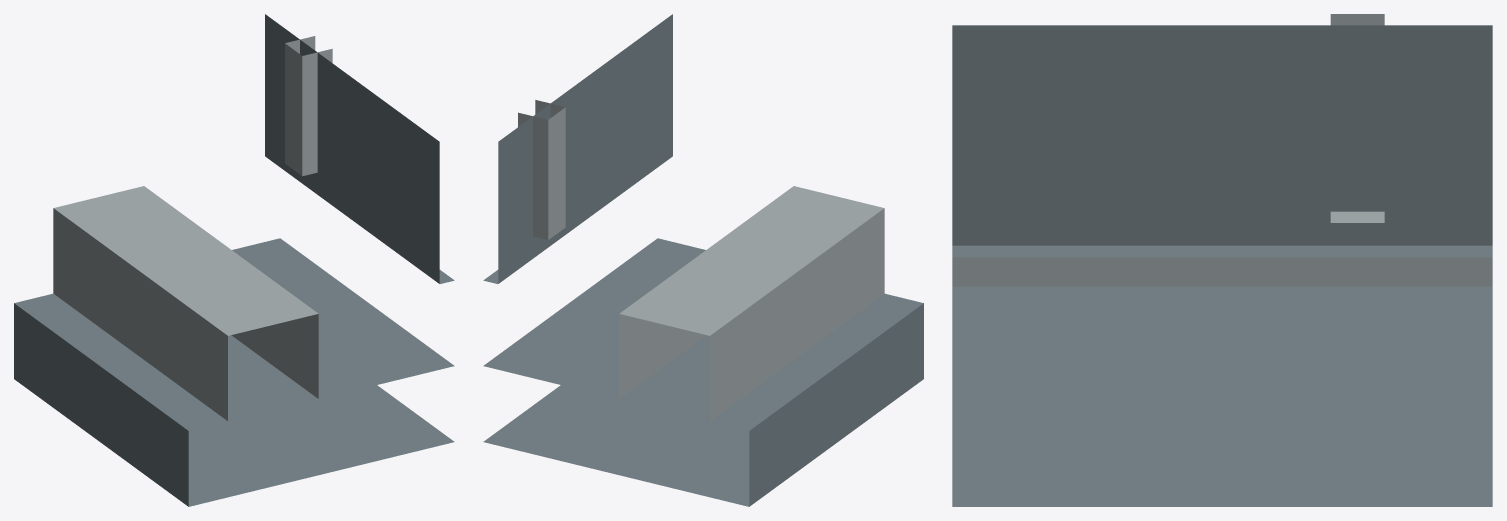
The model's file is cell_30.obj.
3 renders of one model, left to right at view 1: azimuth 30°, elevation 25°; view 2: azimuth 150°, elevation 25°; view 3: azimuth 270°, elevation 25°, orthographic. The views are drawn at different scales.
Bounding box in the file's own units: 0.88 × 0.96 × 1.
